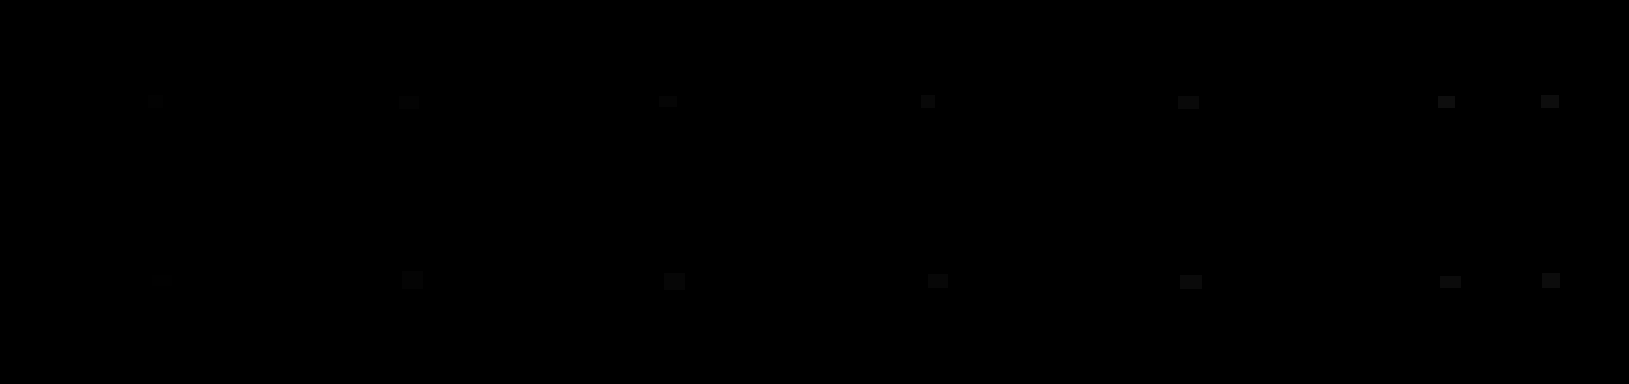light: (402, 271, 423, 289), (664, 273, 685, 290), (928, 274, 949, 289), (1180, 275, 1202, 289), (1542, 273, 1560, 289), (1178, 95, 1199, 109), (399, 95, 419, 109), (1440, 276, 1461, 289), (152, 275, 172, 286), (1541, 95, 1559, 108), (1438, 95, 1456, 108), (659, 95, 677, 107), (148, 95, 163, 108), (922, 95, 935, 108)
